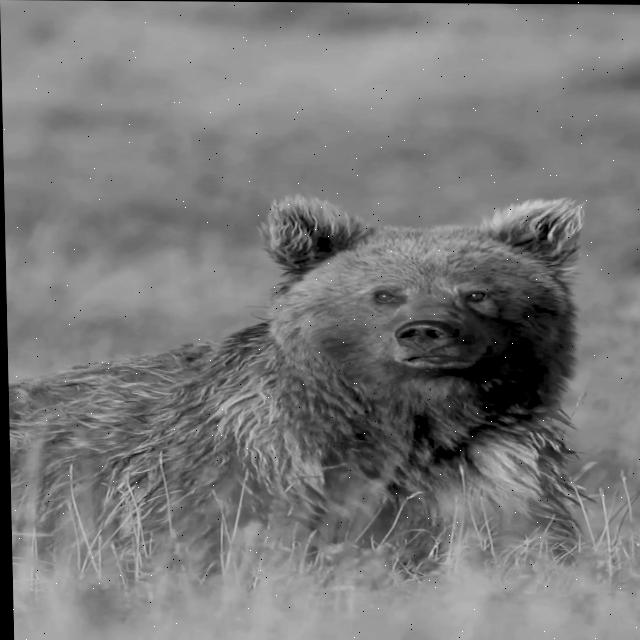Bear: (4, 191, 599, 598)
